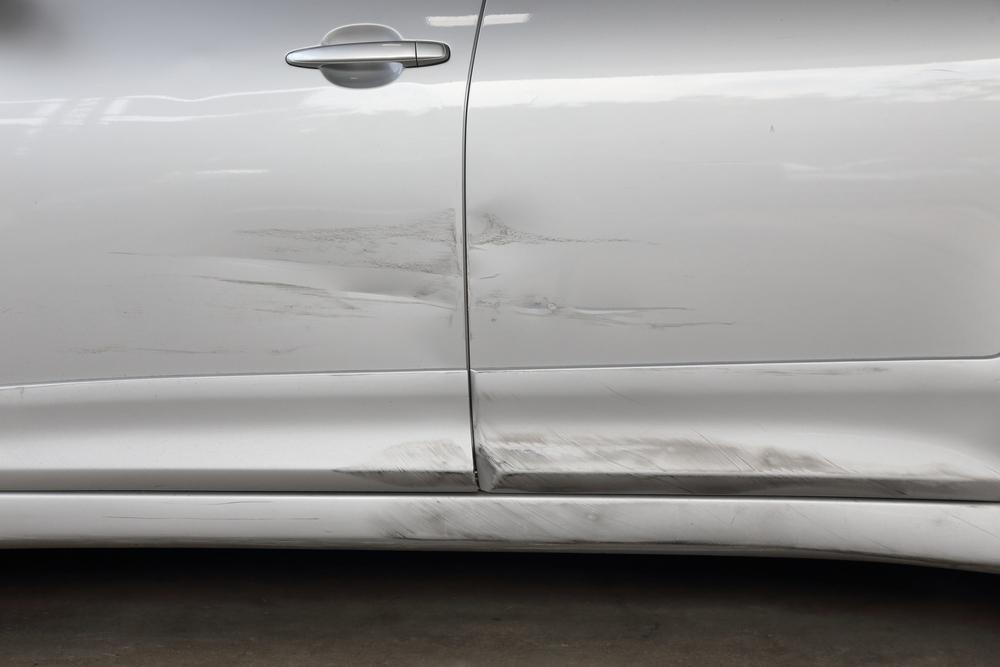dent: (223, 232, 458, 319)
scratch: (480, 431, 854, 496), (475, 273, 749, 334), (273, 204, 461, 280), (360, 502, 630, 545), (328, 437, 475, 489), (469, 212, 650, 249)
